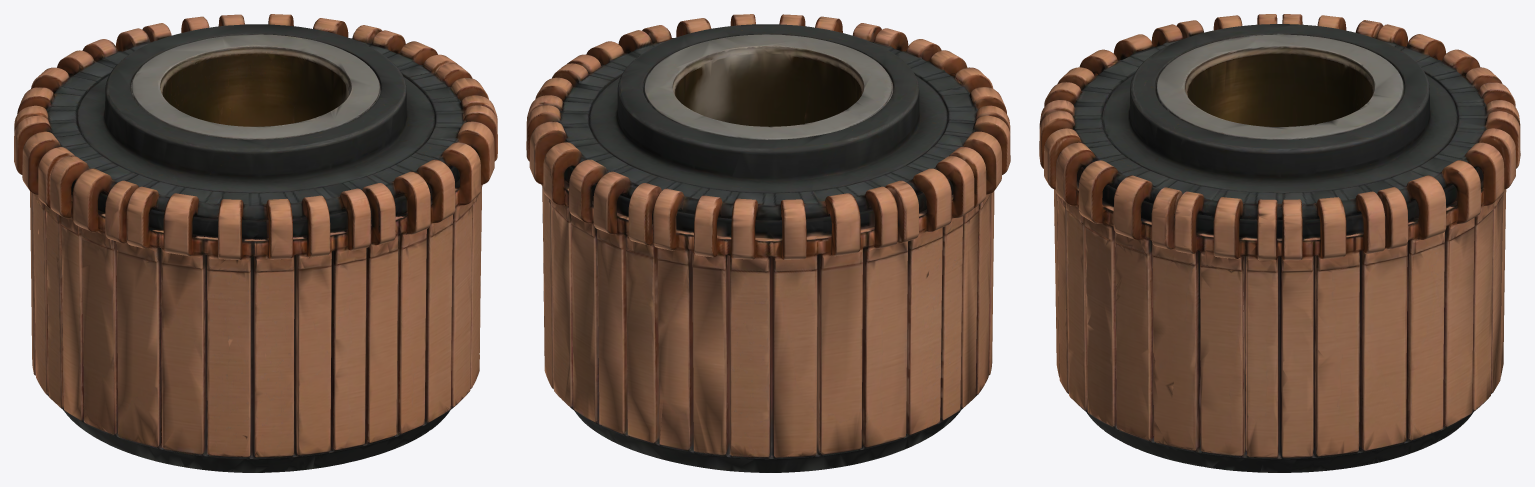
File: commutatorrr.glb
3 views of the same model, side by side, from view 1: azimuth 30°, elevation 25°; view 2: azimuth 150°, elevation 25°; view 3: azimuth 270°, elevation 25° (orthographic).
Visible parts, largest first — view 1: node_0; view 2: node_0; view 3: node_0.
Part boxes in pixels (x1=…): node_0: x1=14, y1=14, x2=497, y2=472; node_0: x1=526, y1=14, x2=1010, y2=472; node_0: x1=1039, y1=14, x2=1520, y2=472.
Bounding box in the file's own units: 1.06 × 0.7316 × 1.06.
Materials: 1 (1 with a texture image).
